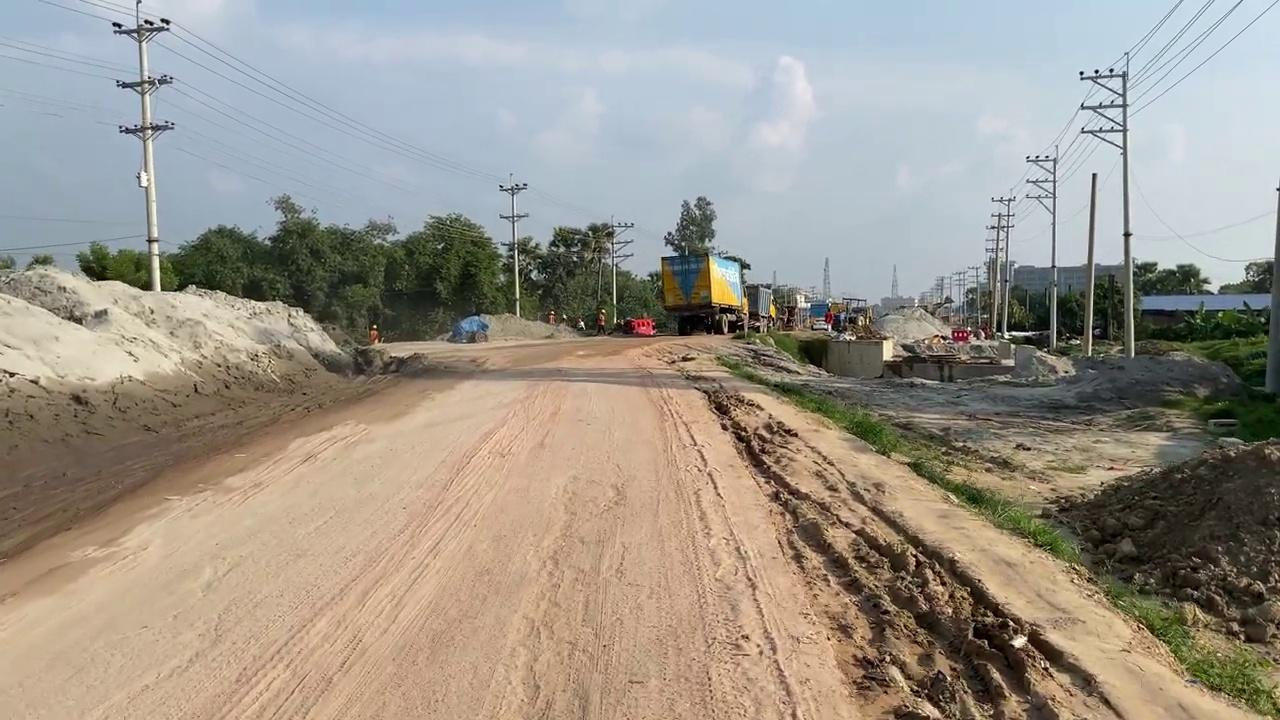Muddy road: (1, 330, 1264, 718)
Obstacle: (884, 339, 1015, 382), (796, 333, 894, 379)
Pole: (110, 1, 174, 291), (1078, 52, 1135, 358), (1082, 172, 1098, 356)
Traffic-sign: (663, 194, 717, 256)
Tree: (658, 251, 749, 335), (829, 296, 876, 336), (744, 283, 777, 331), (622, 317, 656, 335), (558, 313, 585, 330)
